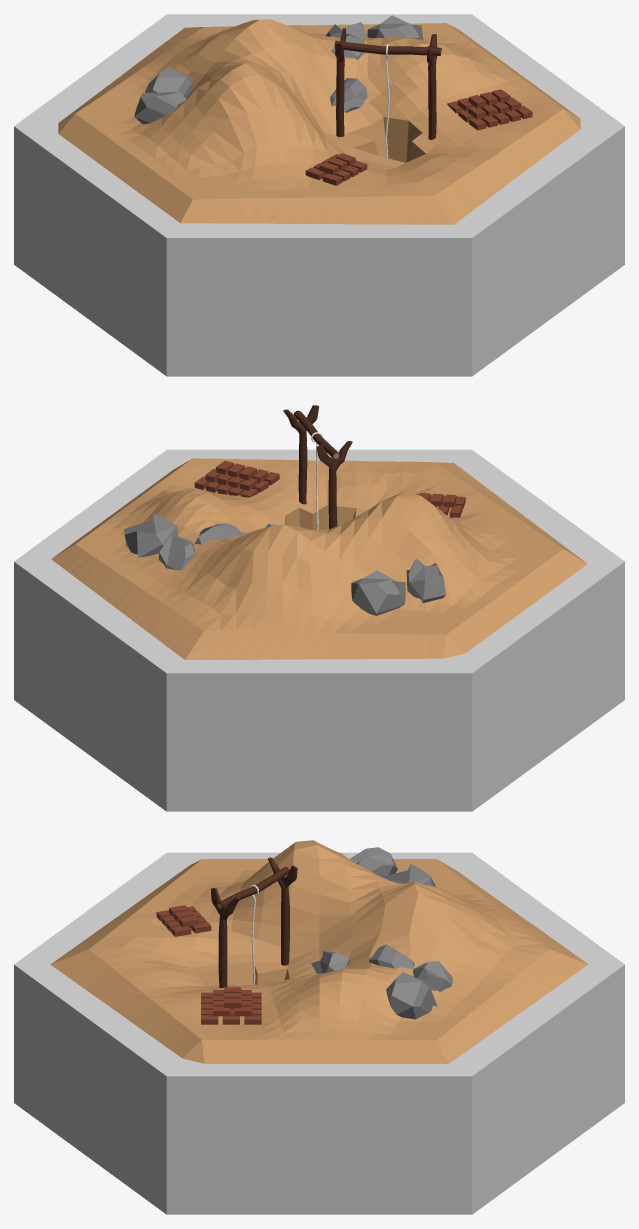
Rendered from Claypit.fbx.
3 views of the same model, one above another, from view 1: azimuth 30°, elevation 25°; view 2: azimuth 150°, elevation 25°; view 3: azimuth 270°, elevation 25° (orthographic).
Parts seen in each view (by area): view 1: Base, Clayhills, Pillars, Rock2.001, Bricks, Rock3.002, Rock3.001, Bricks.003, Rock2.002, Bricks.001, Bricks.002; view 2: Base, Clayhills, Pillars, Rock3.002, Rock3.001, Rock2.001, Rock3.003, Bricks, Bricks.001, Rock1.001; view 3: Base, Clayhills, Pillars, Rock3.001, Bricks, Rock2.001, Rock3.003, Bricks.003, Bricks.001, Rock1.001, Rock3.002, Rock2.002.
Boxes of the visible parts, x1,y1,x2,y2 form: Base: (14, 14, 624, 376); Clayhills: (58, 19, 580, 224); Pillars: (334, 28, 441, 139); Rock2.001: (134, 91, 186, 124); Bricks: (447, 90, 532, 130); Rock3.002: (145, 67, 193, 97); Rock3.001: (367, 15, 423, 40); Bricks.003: (305, 154, 367, 185); Rock2.002: (330, 78, 367, 112); Bricks.001: (457, 94, 520, 119); Bricks.002: (468, 89, 509, 108); Base: (14, 449, 624, 811); Clayhills: (51, 458, 587, 659); Pillars: (283, 405, 352, 528); Rock3.002: (351, 570, 405, 615); Rock3.001: (124, 514, 177, 557); Rock2.001: (406, 559, 445, 603); Rock3.003: (158, 534, 195, 570); Bricks: (194, 460, 279, 497); Bricks.001: (205, 461, 268, 490); Rock1.001: (194, 523, 243, 544); Base: (14, 852, 624, 1214); Clayhills: (50, 840, 588, 1063); Pillars: (210, 857, 297, 987); Rock3.001: (386, 972, 437, 1019); Bricks: (201, 992, 261, 1024); Rock2.001: (349, 847, 397, 876); Rock3.003: (413, 961, 452, 992); Bricks.003: (156, 906, 211, 936); Bricks.001: (213, 990, 251, 1016); Rock1.001: (369, 944, 414, 969); Rock3.002: (381, 864, 435, 886); Rock2.002: (311, 951, 350, 973).
Bounding box in the file's own units: 1732 × 877 × 2000.
